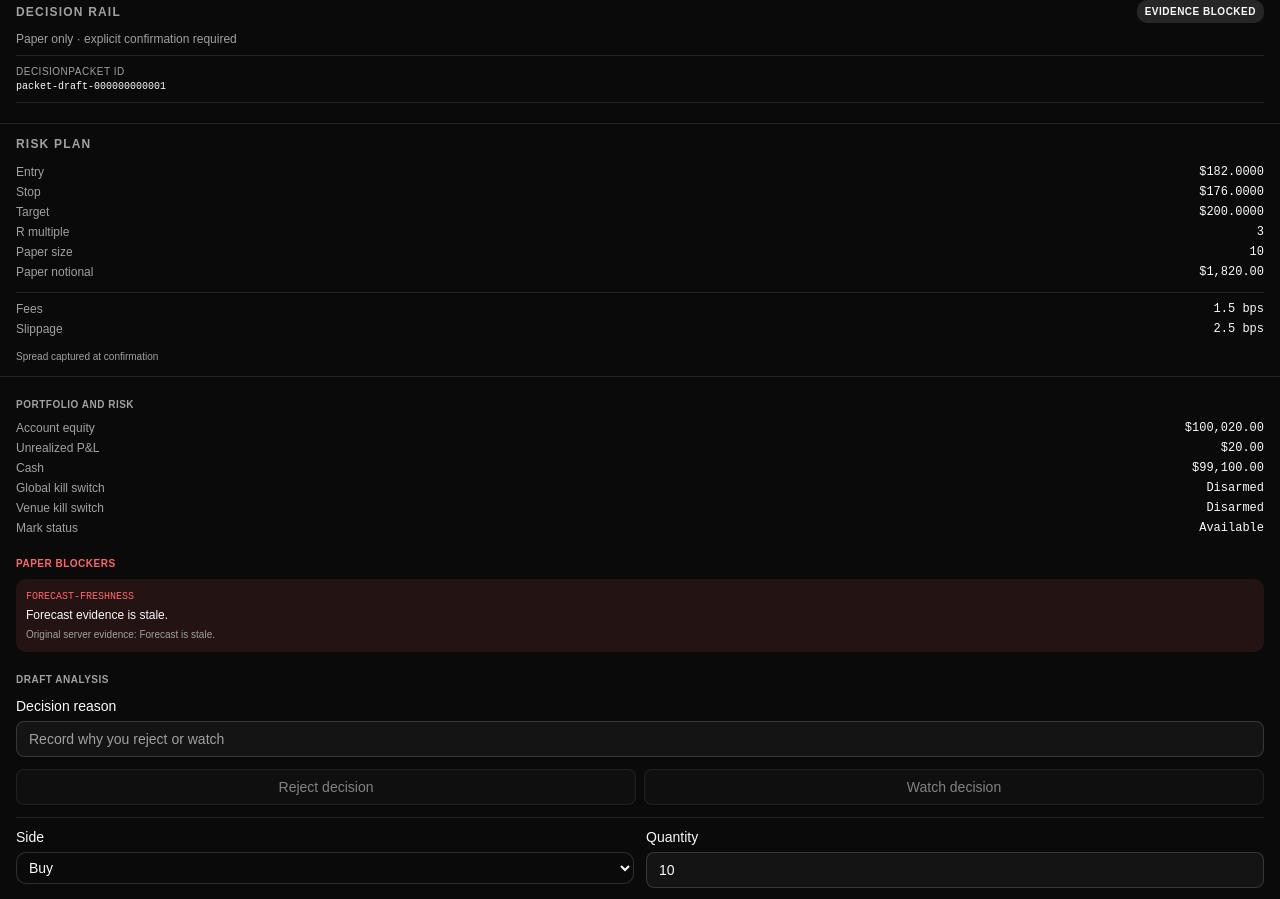
Test: DecisionRail › keeps Reject and Watch usable while evidence blocks Paper, then displays the saved packet ID
This screenshot has width=1280, height=899.
Expected: the text "Evidence blocked" is shown, [1137, 0, 1264, 23]
Expected: the text "Original server evidence: Forecast is stale." is shown, [26, 629, 215, 640]
Type "Wait for fresh evidence" into the field labelled "Decision reason" at (640, 739), box [16, 721, 1264, 757]
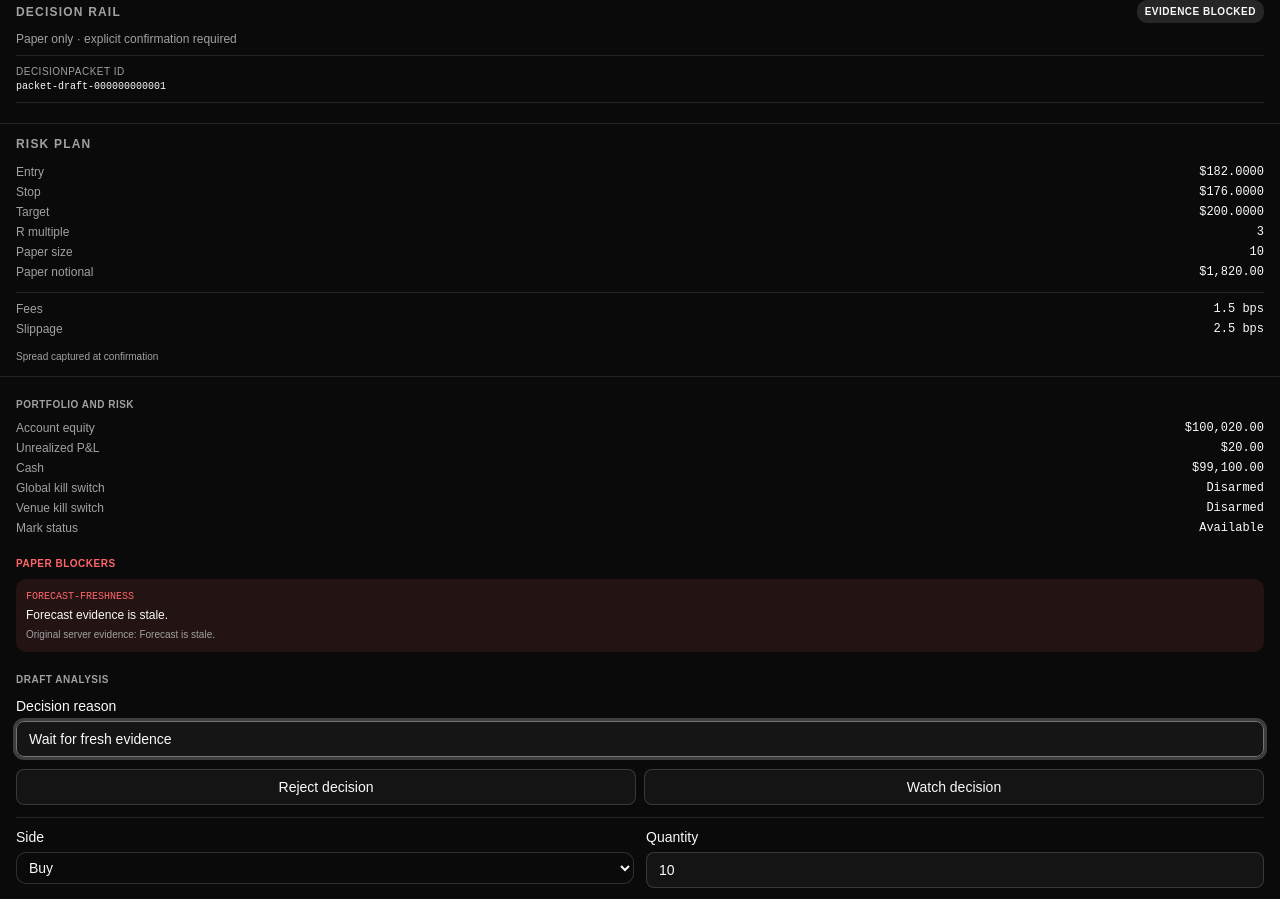
Expected: the button "Reject decision" is enabled, [16, 769, 636, 805]
Expected: the button "Watch decision" is enabled
Click the button "Watch decision" at (954, 787), box [644, 769, 1264, 805]
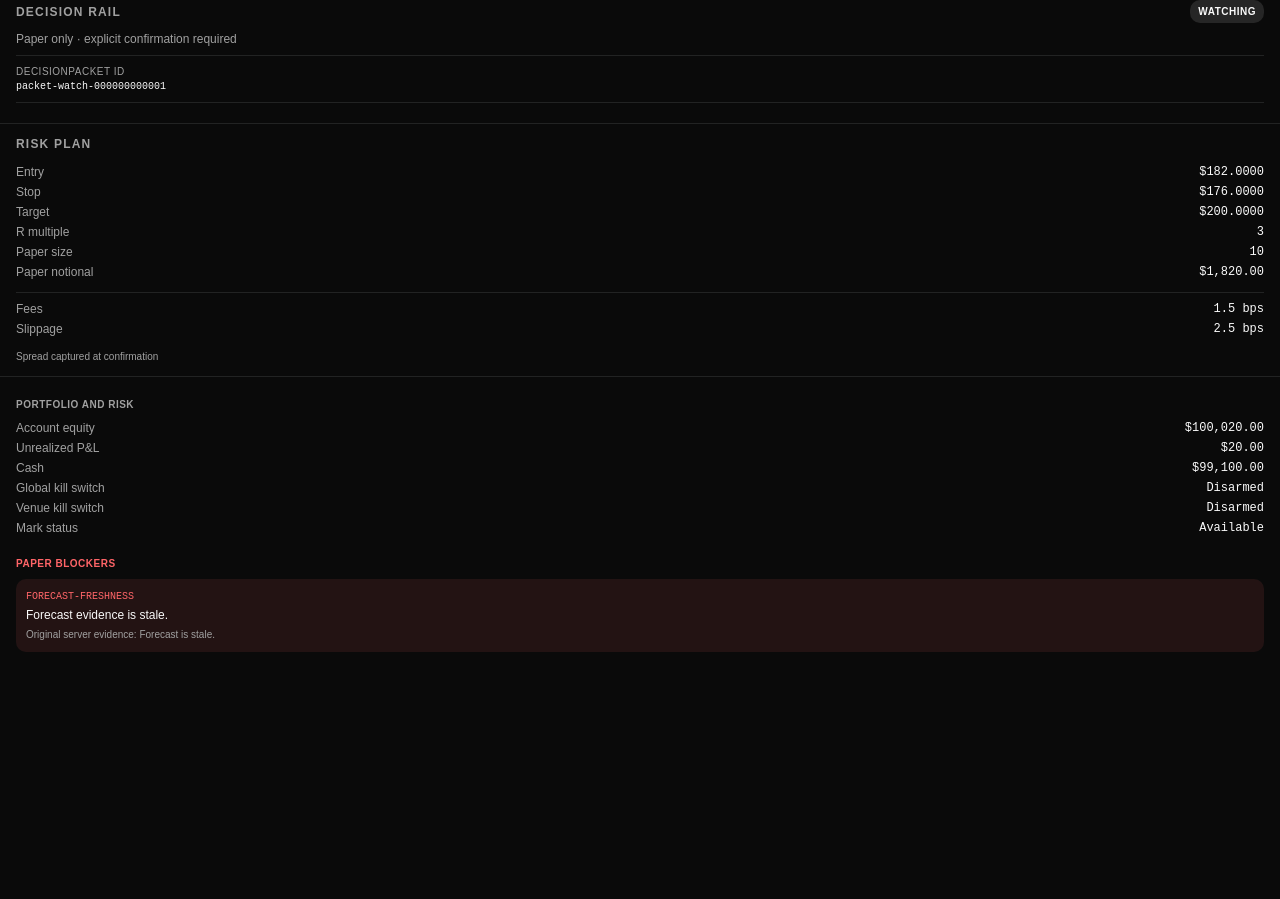
Expected: the text "packet-watch-000000000001" is shown, [16, 81, 166, 92]
Expected: the text "Watching" is shown, [1190, 0, 1264, 23]
